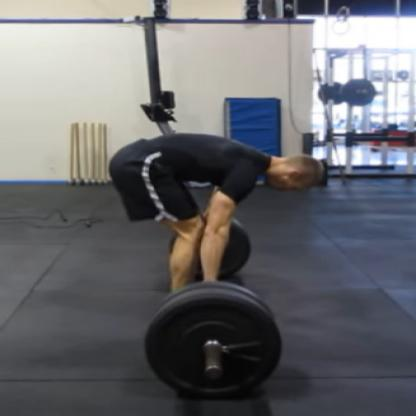Barbell: (131, 280, 294, 402)
